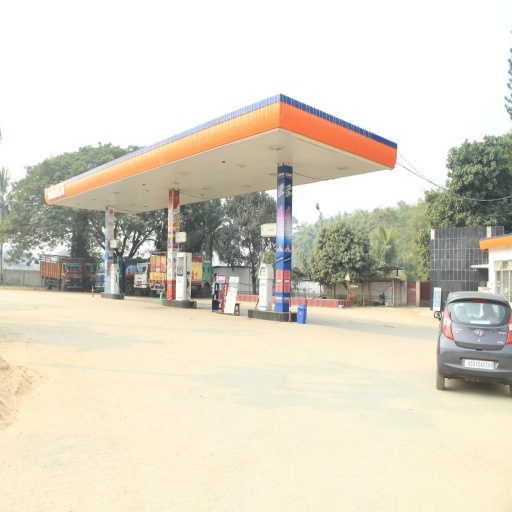roof: (42, 95, 398, 215)
